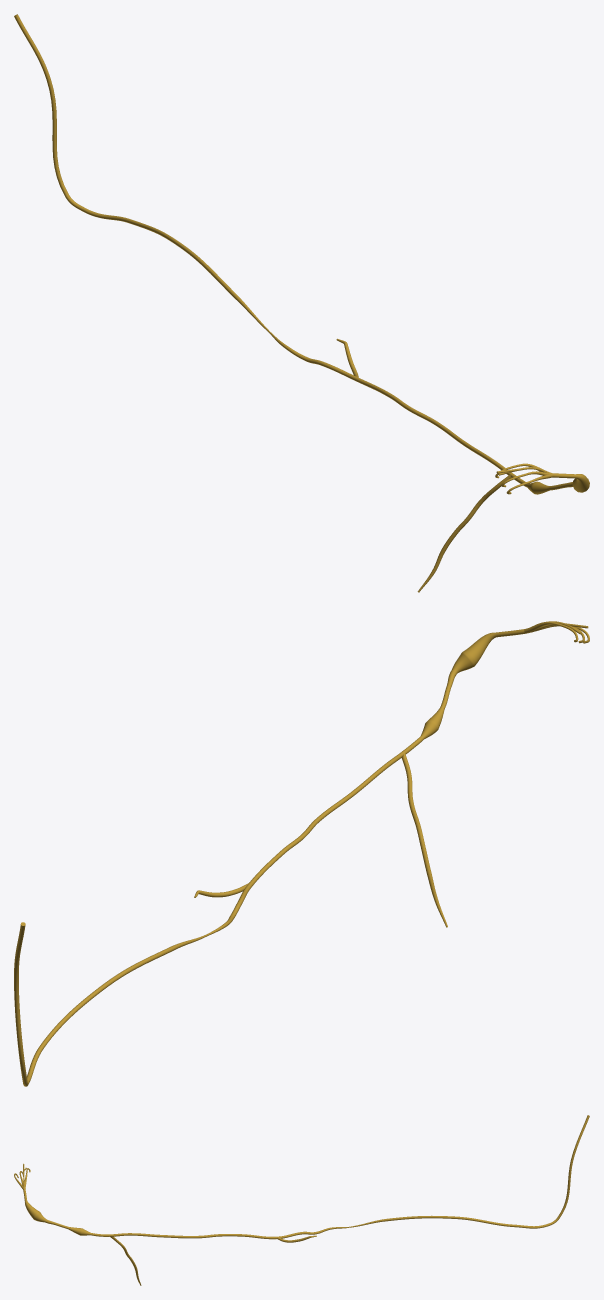
3 views of the same model, one above another, from view 1: azimuth 30°, elevation 25°; view 2: azimuth 150°, elevation 25°; view 3: azimuth 270°, elevation 25° (orthographic). The views are drawn at different scales.
Visible parts, largest first — view 1: 左侧迷走神经; view 2: 左侧迷走神经; view 3: 左侧迷走神经.
Part boxes in pixels (x1=…): 左侧迷走神经: x1=14, y1=14, x2=589, y2=592; 左侧迷走神经: x1=14, y1=621, x2=589, y2=1086; 左侧迷走神经: x1=14, y1=1115, x2=589, y2=1285.
Size of the model in its own units: 0.0403 by 0.1088 by 0.3384.
